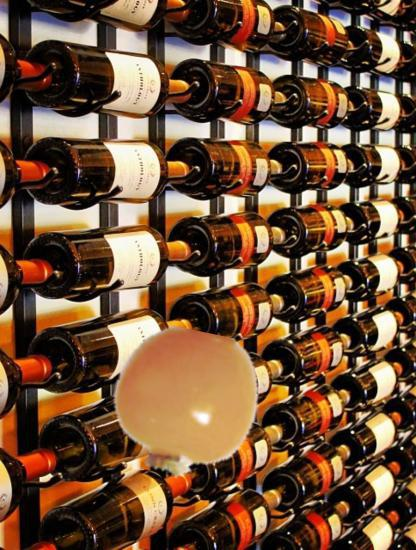Physalis: (110, 330, 259, 479)
